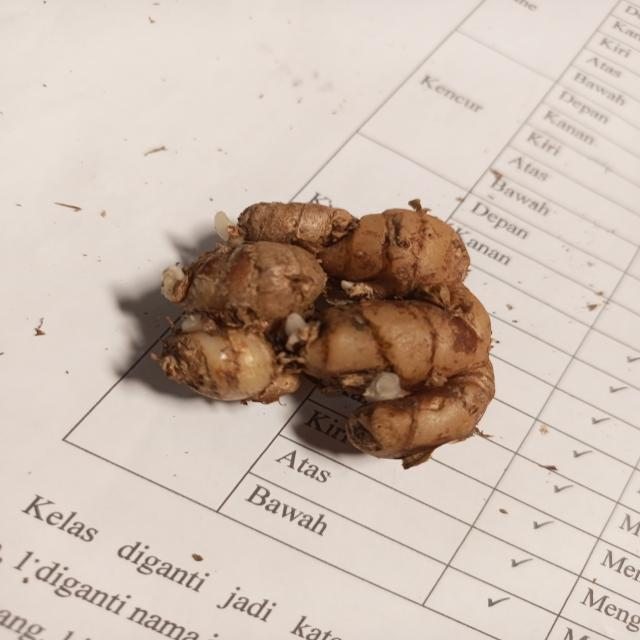ginger: (187, 203, 487, 448)
